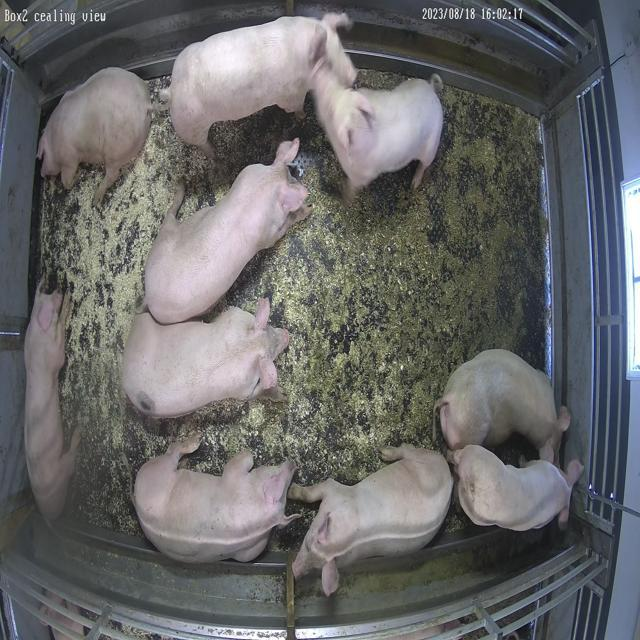Dirt: (177, 89, 546, 484)
Pig: (144, 138, 312, 324), (168, 13, 357, 156), (291, 447, 454, 596), (133, 436, 299, 564), (122, 299, 289, 419), (314, 74, 444, 200), (38, 67, 152, 204), (437, 350, 572, 464), (24, 285, 80, 520), (450, 445, 584, 532)
